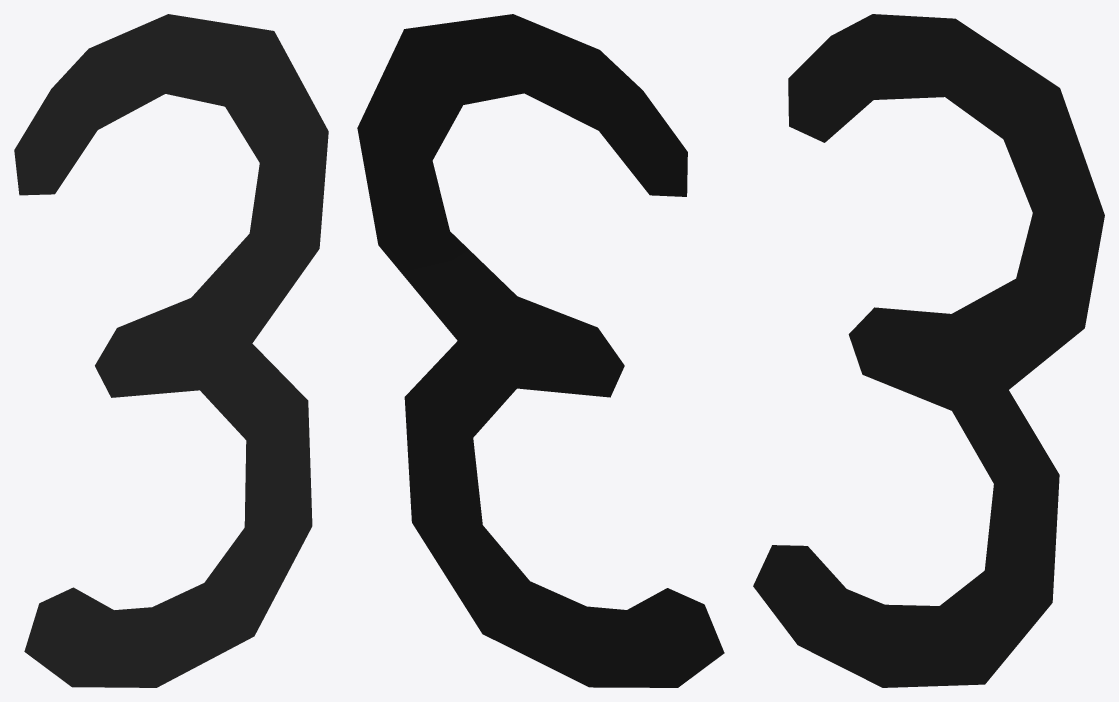
Rendered from mouth_5.fbx.
3 views of the same model, side by side, from view 1: azimuth 30°, elevation 25°; view 2: azimuth 150°, elevation 25°; view 3: azimuth 330°, elevation 25° (orthographic). The views are drawn at different scales.
Parts seen in each view (by area): view 1: mouth_5; view 2: mouth_5; view 3: mouth_5.
Boxes of the visible parts, bbox=[...] form: mouth_5: bbox=[14, 14, 328, 687]; mouth_5: bbox=[357, 14, 724, 687]; mouth_5: bbox=[753, 14, 1104, 687].
Bounding box in the file's own units: 0.1423 × 0.2694 × 0.0227.
